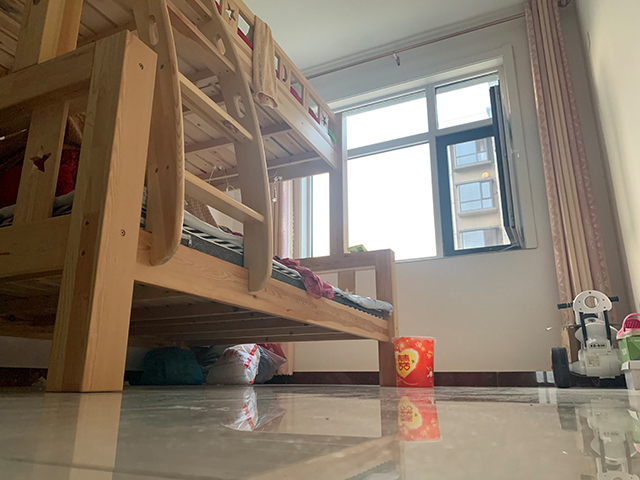bed: (1, 1, 399, 395)
curtain: (523, 1, 616, 322), (270, 178, 296, 376)
trashcan: (392, 335, 436, 389)
